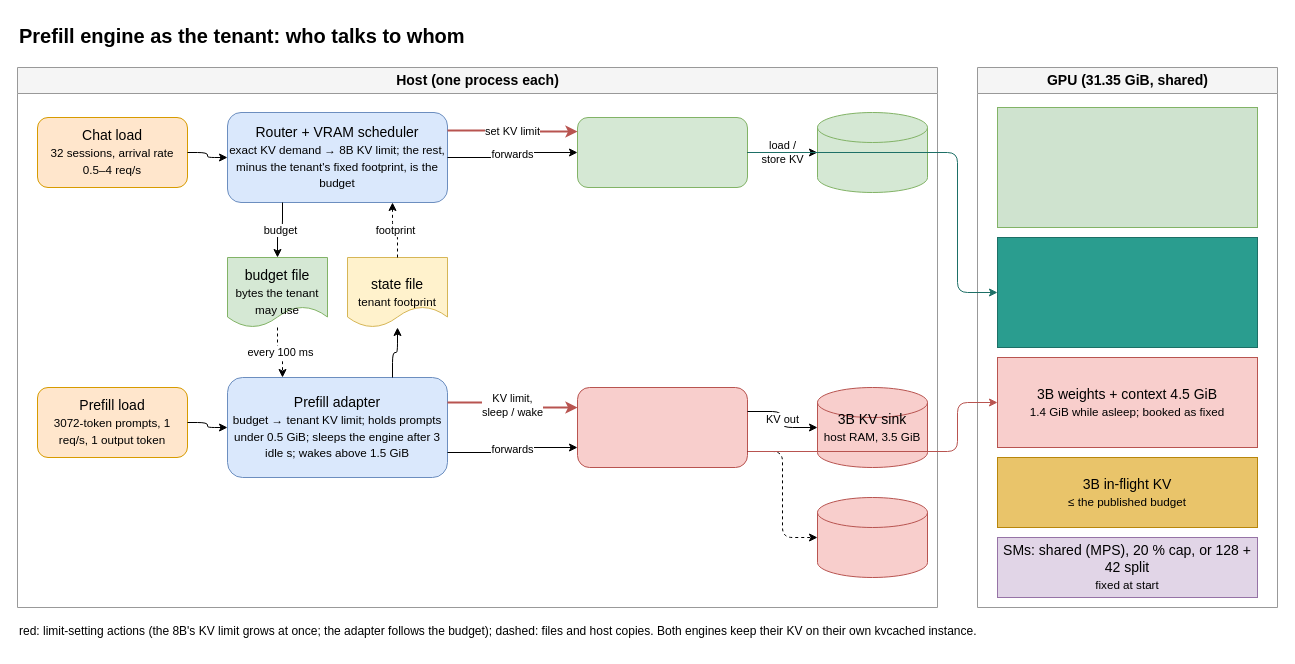
The diagram is 1295 pixels wide and 664 high, and some of its shapes have lost their labels. The centre of each missing label's shape, as x and y in pixels:
"3B fp8 prefill engine vLLM + kvcached (instance c), prefill only" goes at [662,427].
"3B weights while asleep host RAM" goes at [872,537].
"8B decode engine vLLM + kvcached (instance b)" goes at [662,152].
"8B KV of in-flight requests elastic, up to the scheduler's limit" goes at [1127,292].
"8B KV store host RAM, 25.5 GiB" goes at [872,152].
"8B weights + runtime ≈ 17 GiB fixed, measured at start" goes at [1127,167].
